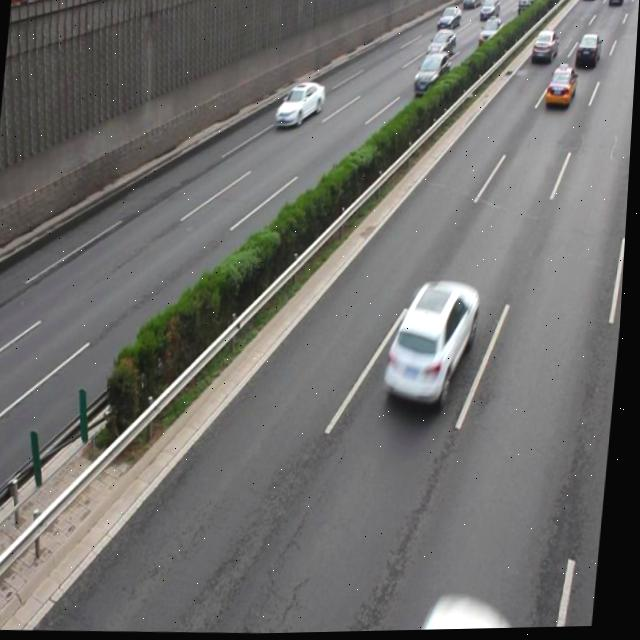car: (386, 277, 483, 411), (423, 596, 519, 632), (275, 80, 326, 130), (412, 53, 452, 97), (544, 66, 578, 109)
